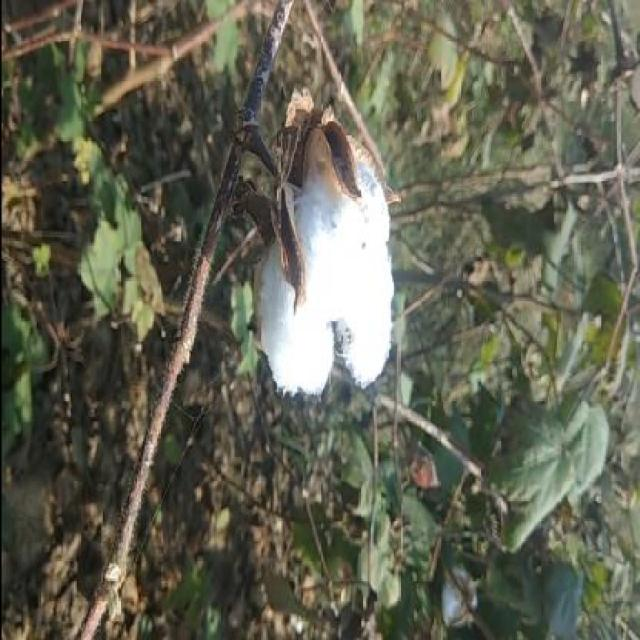cotton_ready: (212, 48, 414, 463)
